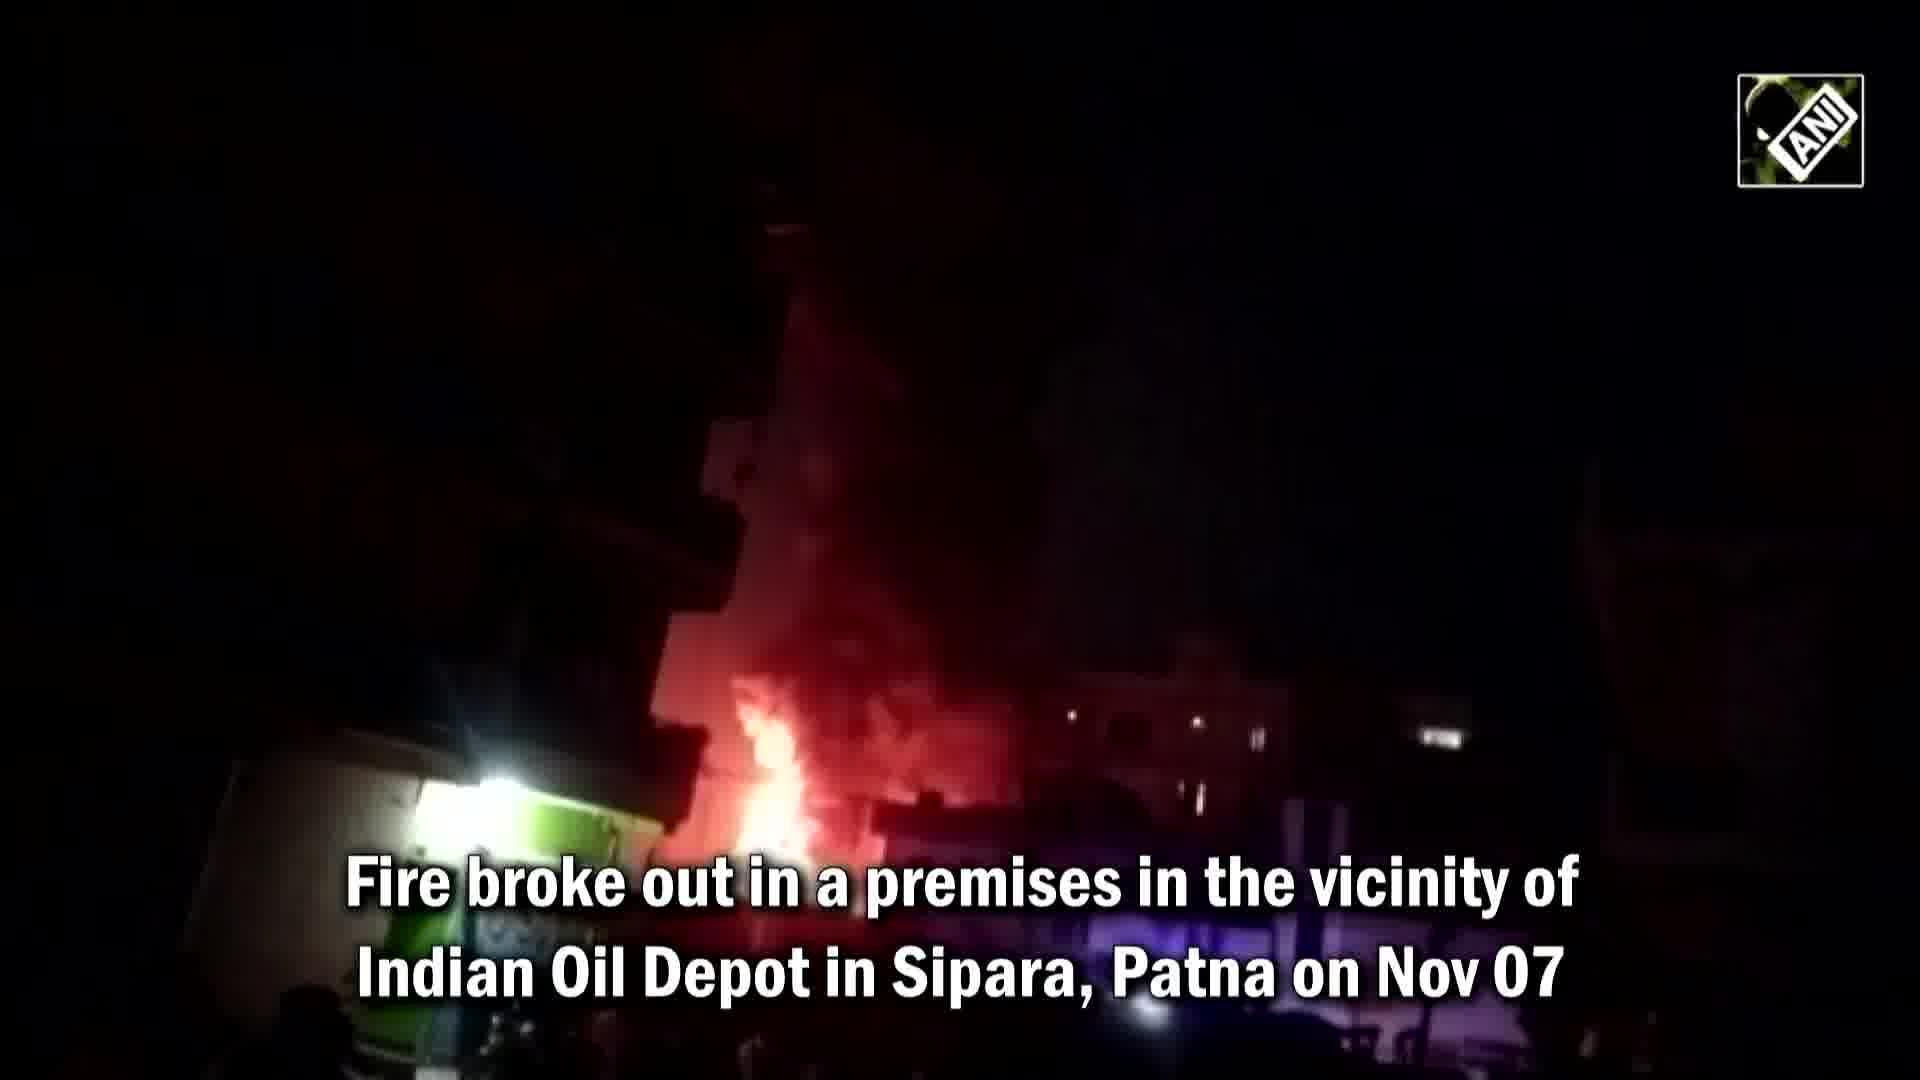fire: (712, 704, 832, 874)
